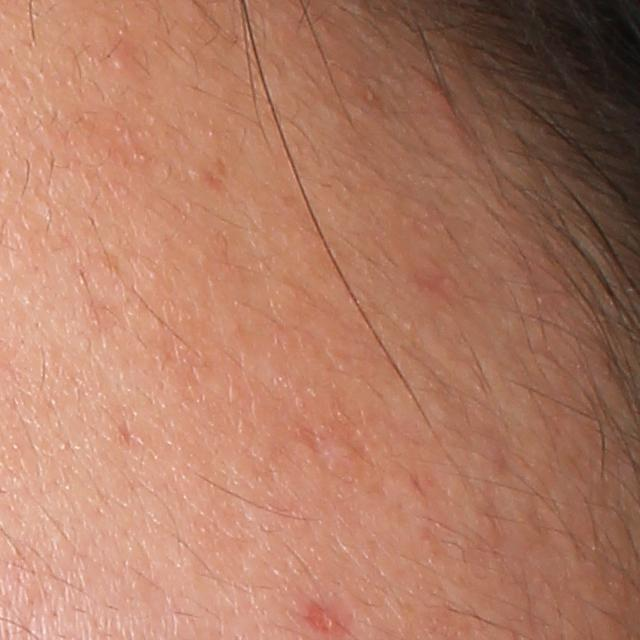comedo: (110, 49, 132, 72)
